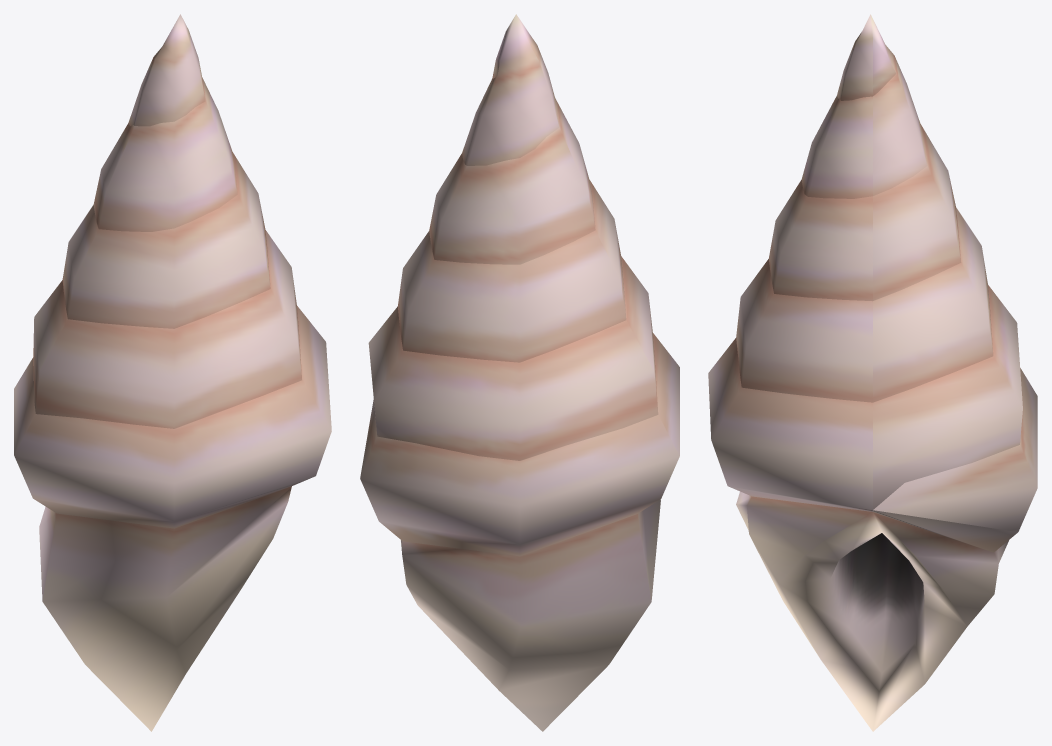
File: shell.fbx
3 renders of one model, left to right at view 1: azimuth 30°, elevation 25°; view 2: azimuth 150°, elevation 25°; view 3: azimuth 270°, elevation 25°, orthographic. The views are drawn at different scales.
Visible parts, largest first — view 1: shell; view 2: shell; view 3: shell.
Boxes of the visible parts, box(x1,y1,x2,y2) form: shell: box(14, 14, 331, 731); shell: box(360, 14, 679, 731); shell: box(708, 14, 1037, 731).
Bounding box in the file's own units: 10.98 × 23.94 × 9.77.
